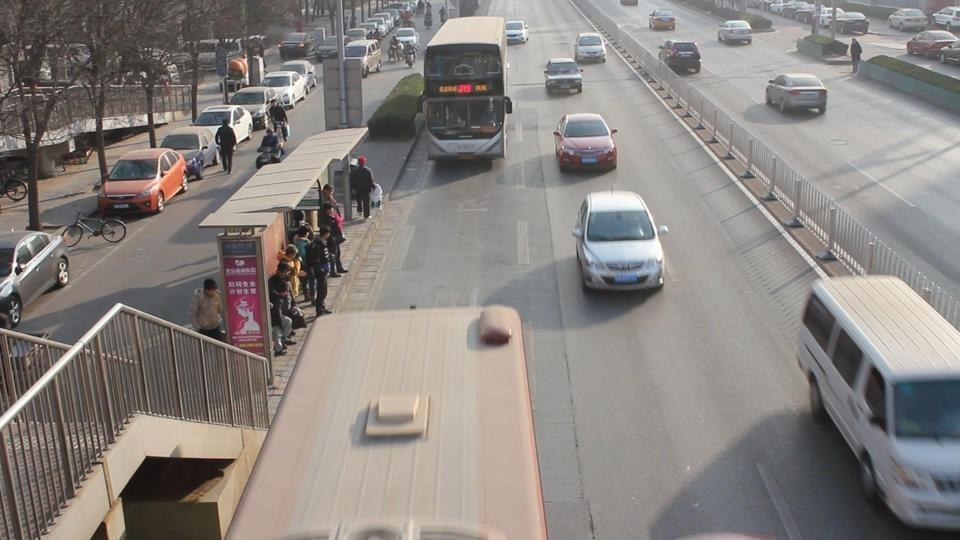car: (222, 302, 563, 537), (571, 190, 666, 291), (0, 227, 72, 328), (96, 147, 188, 217), (553, 111, 619, 172), (159, 128, 217, 180), (765, 72, 829, 116), (229, 87, 285, 131), (191, 106, 253, 144), (656, 39, 703, 75), (260, 72, 307, 108), (341, 38, 383, 77), (543, 57, 584, 96), (905, 29, 958, 58), (277, 30, 322, 62), (278, 61, 320, 93), (255, 126, 287, 167), (573, 32, 607, 65), (887, 8, 930, 32), (717, 19, 752, 46), (505, 19, 529, 46), (931, 7, 960, 29), (648, 9, 675, 31), (392, 27, 419, 48), (939, 43, 960, 64)
